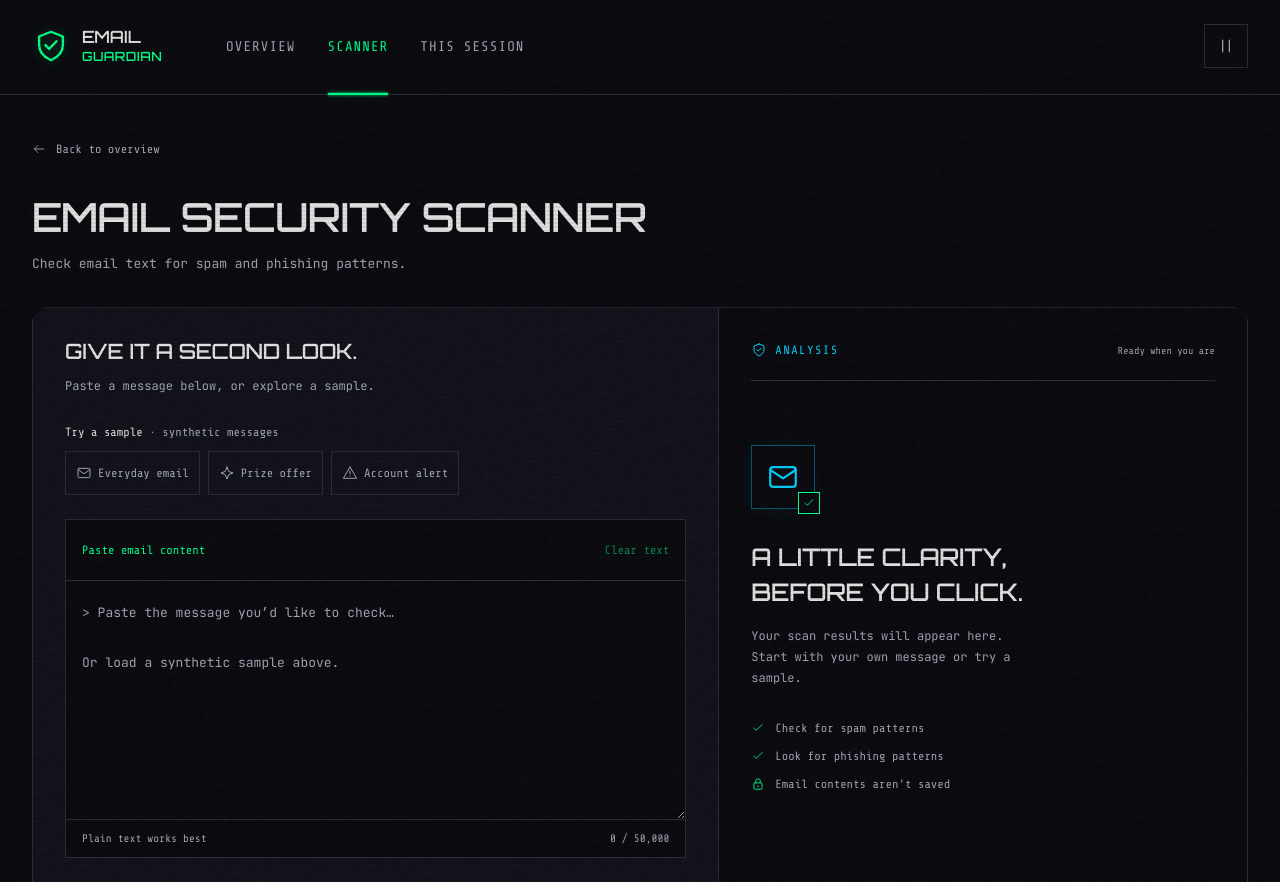
Test: session items reopen previous real results without another request
The image size is (1280, 882).
Replace the text in the text box labelled "Paste email content" with "PRIVATE_INPUT_MARKER": x=376, y=700 [66,581,685,819]
(page scrolled)
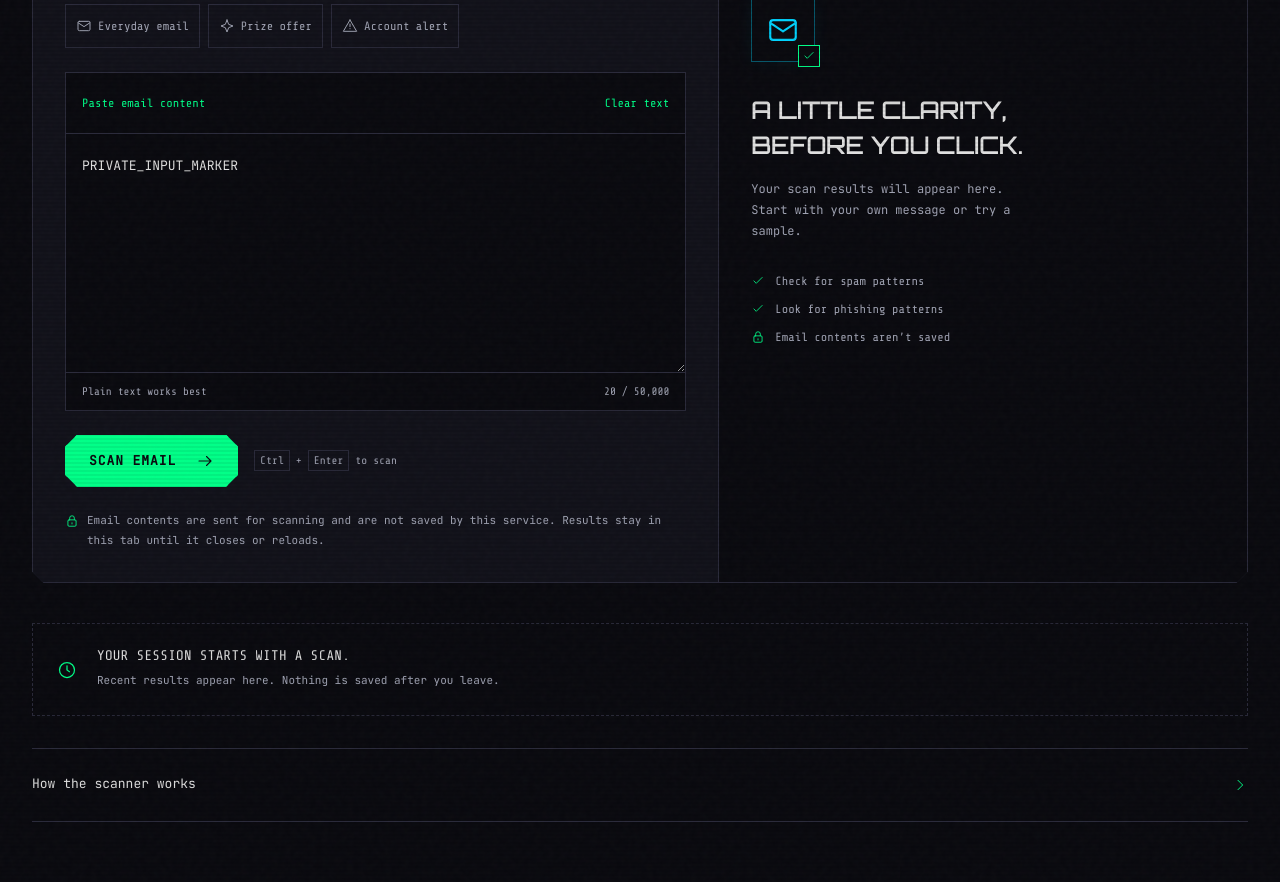
Click the button "Scan Email": x=152, y=461 [65,435,238,487]
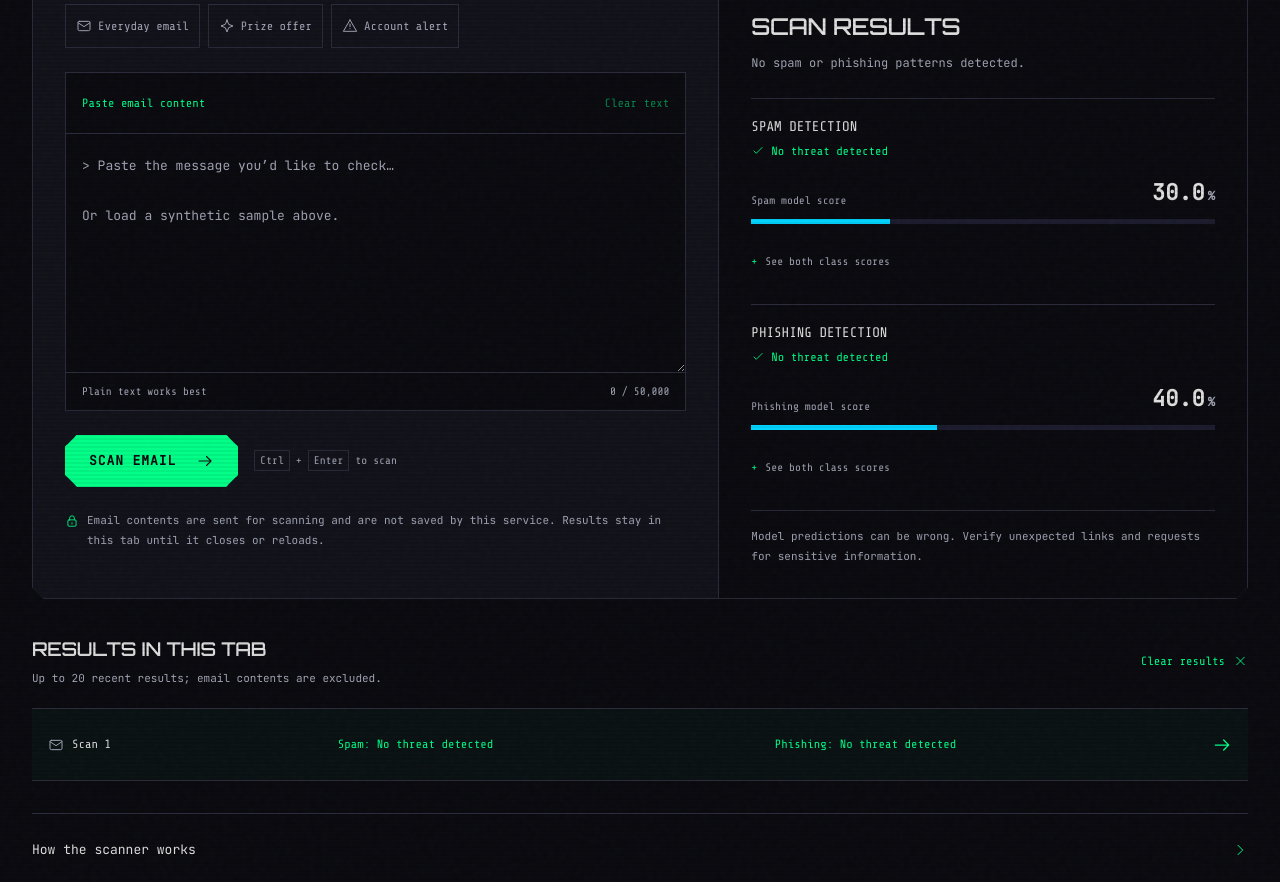
Expected: the heading "Scan results" is shown, [751,13,960,40]
Replace the text in the text box labelled "Paste email content" with "PRIVATE_INPUT_MARKER": x=376, y=253 [66,134,685,372]
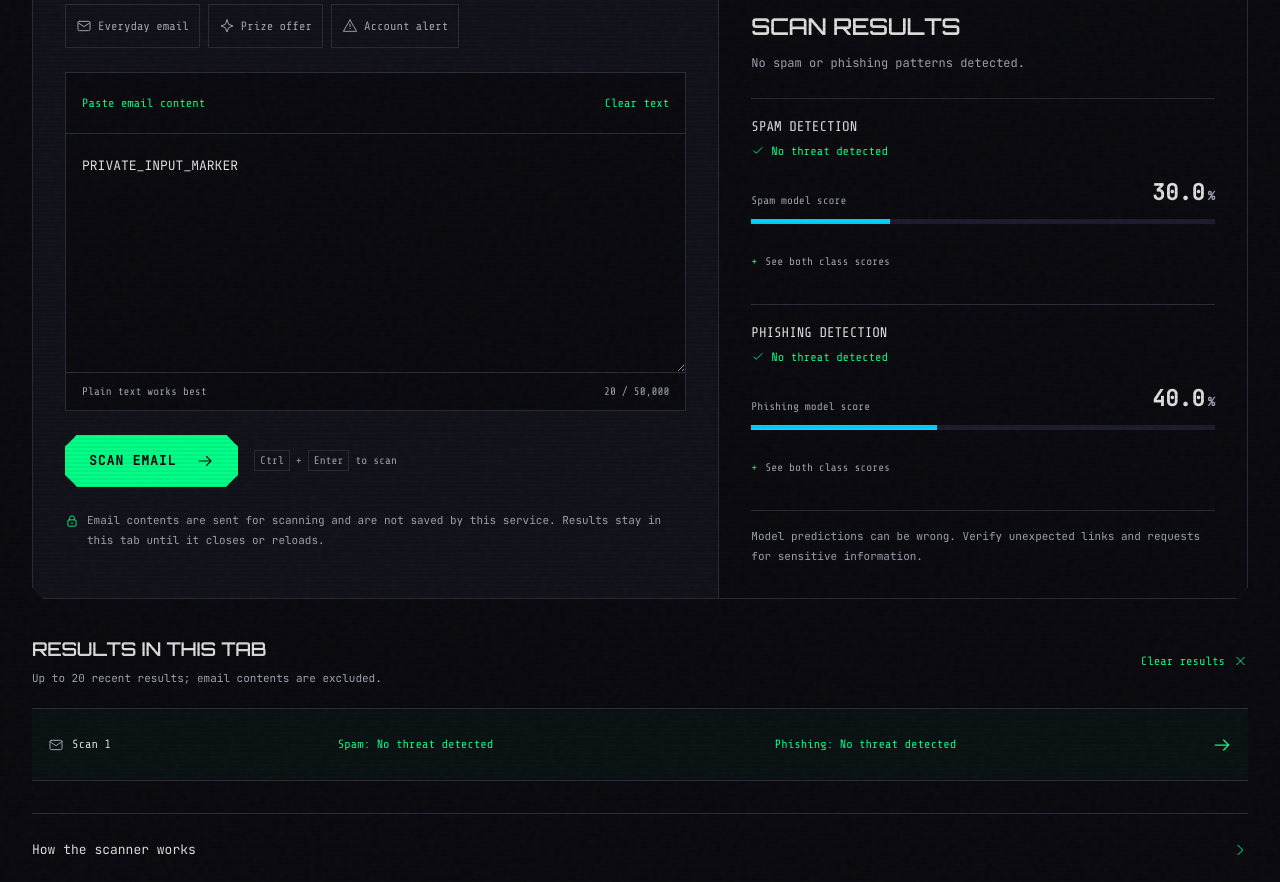
Click the button "Scan Email": x=152, y=461 [65,435,238,487]
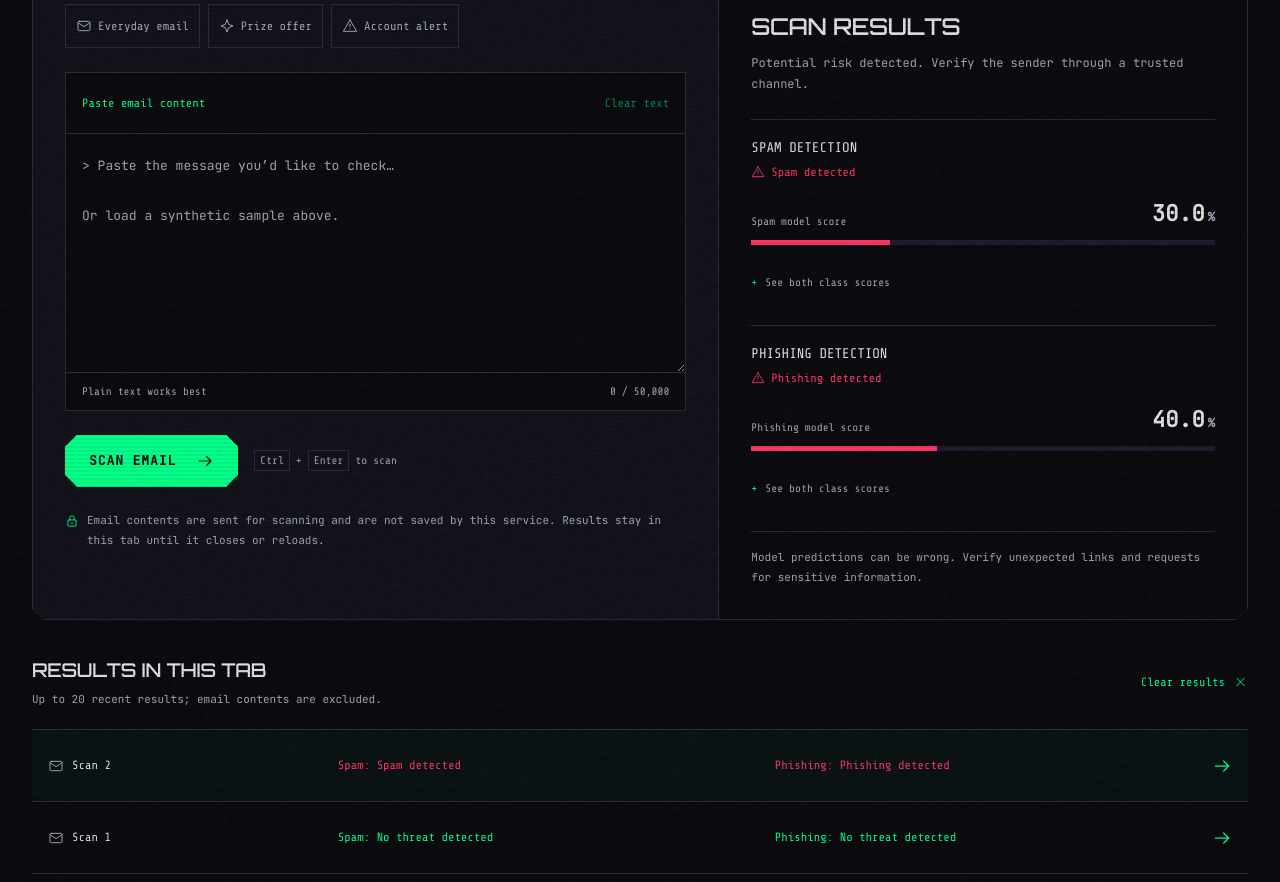
Expected: the text "Potential risk detected. Verify the sender through a trusted channel." is shown, [751,53,1215,95]
Click the button with aria-label "View result 1": x=88, y=837 [32,802,1248,874]
(page scrolled)
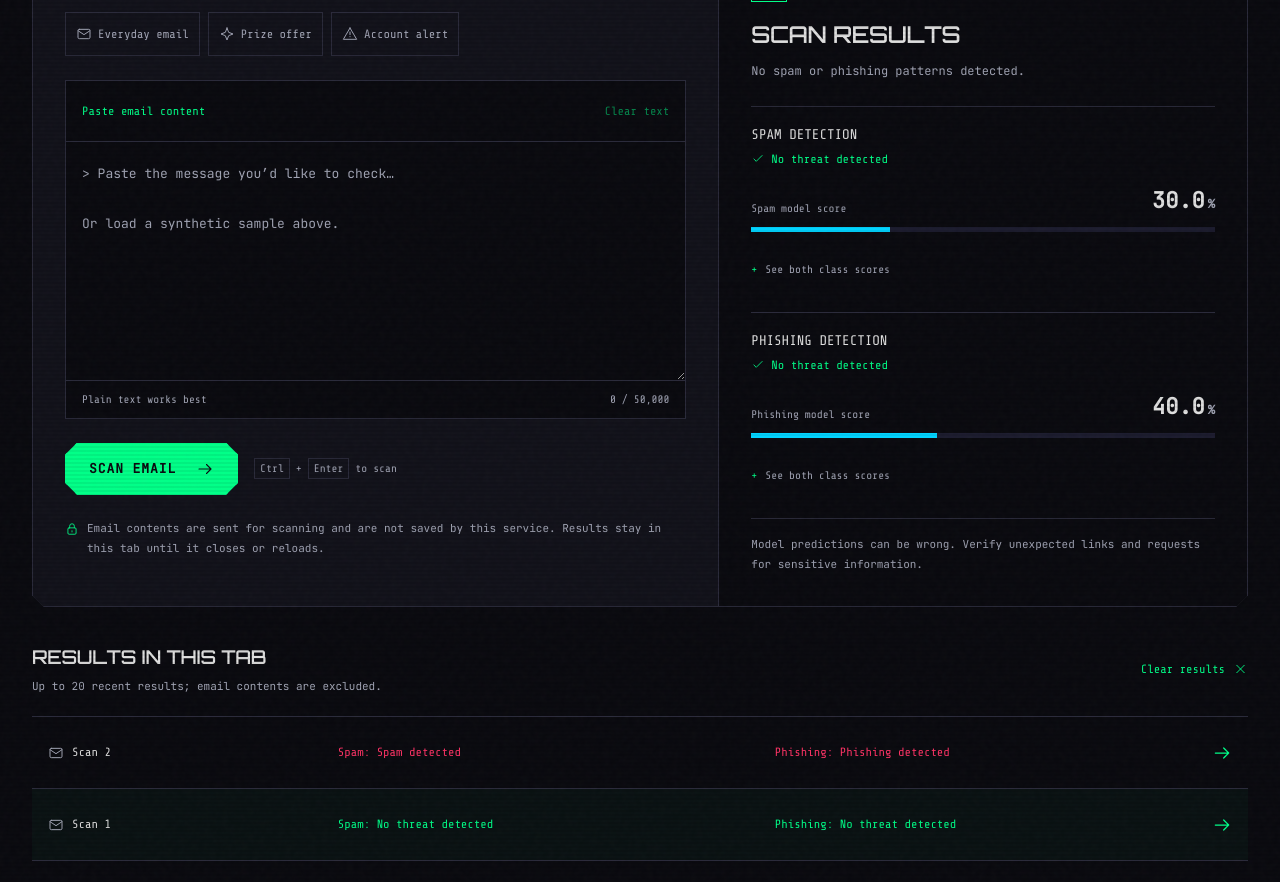
Expected: the text "No spam or phishing patterns detected." is shown, [751,63,1025,79]
